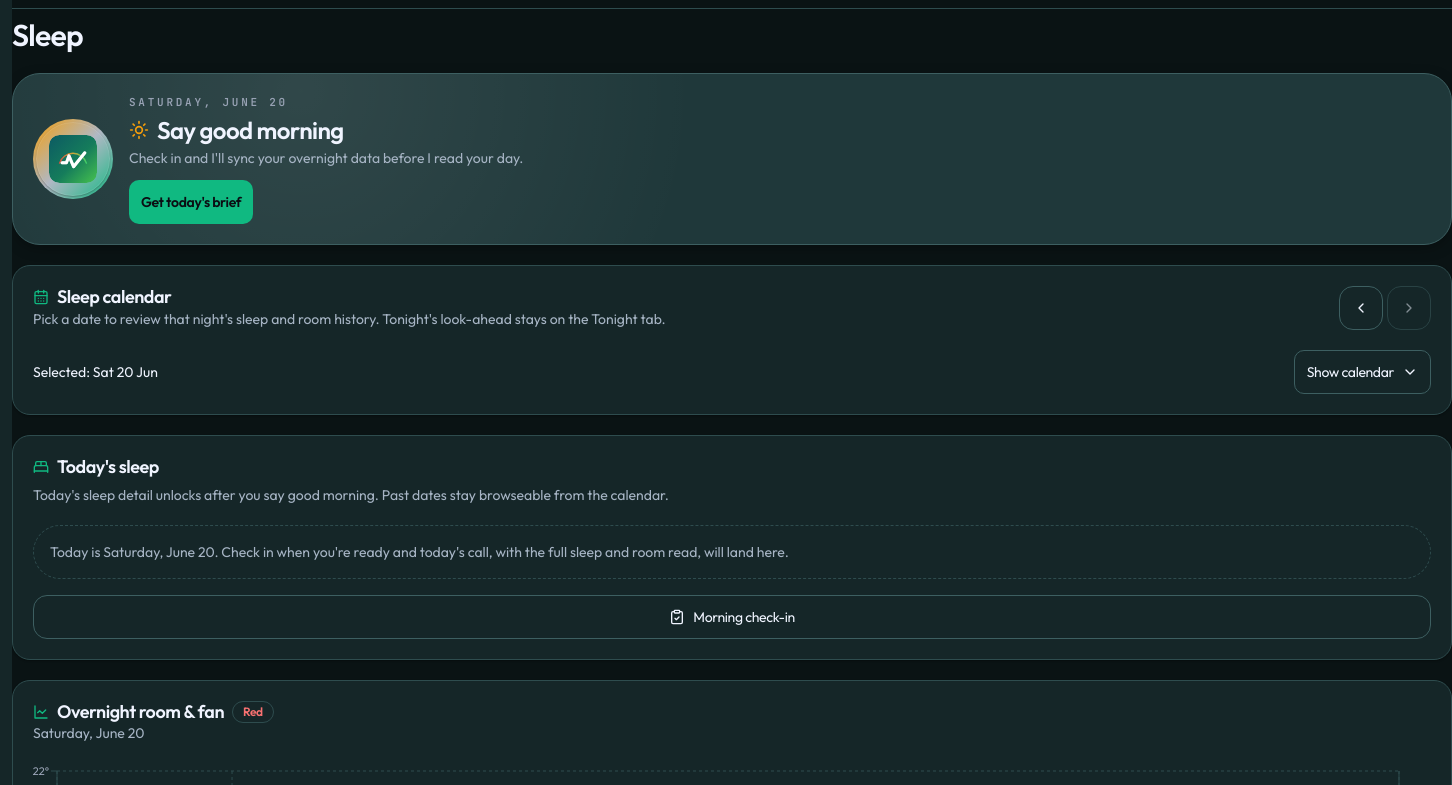
Test case: SleepPage › lets Mark browse past dates before today is unlocked while keeping today gated
Expected: the element "Say good morning" is shown, [12, 73, 1451, 245]
Expected: the heading "Today's sleep" is shown, [33, 455, 159, 478]
Click the button "Show calendar" at (1362, 372), box [1294, 350, 1431, 394]
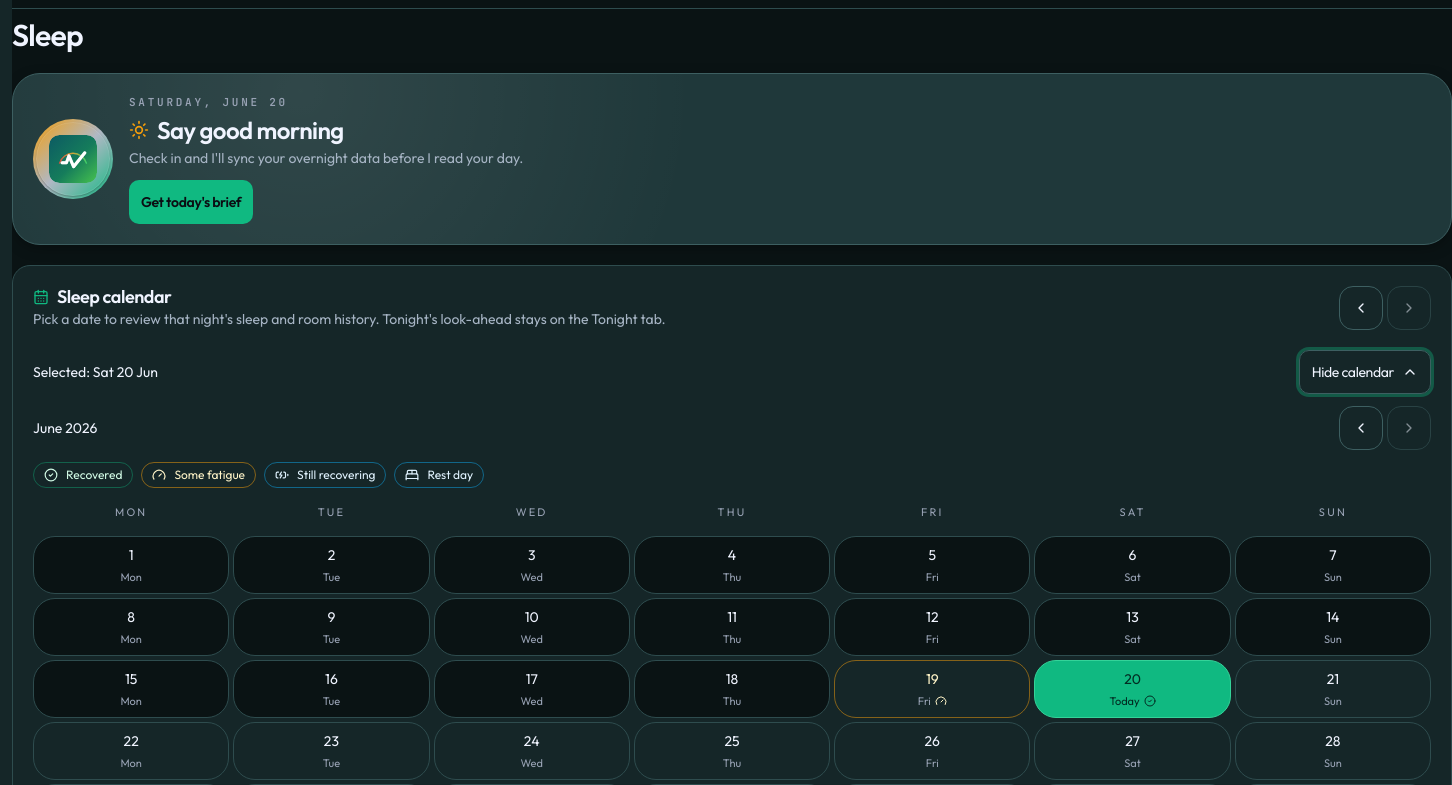
Now the text "June 2026" is shown, box [33, 418, 98, 438]
Click the button with aria-label "Friday 19 June 2026 - Some fatigue" at (932, 689), box [834, 660, 1030, 718]
(page scrolled)
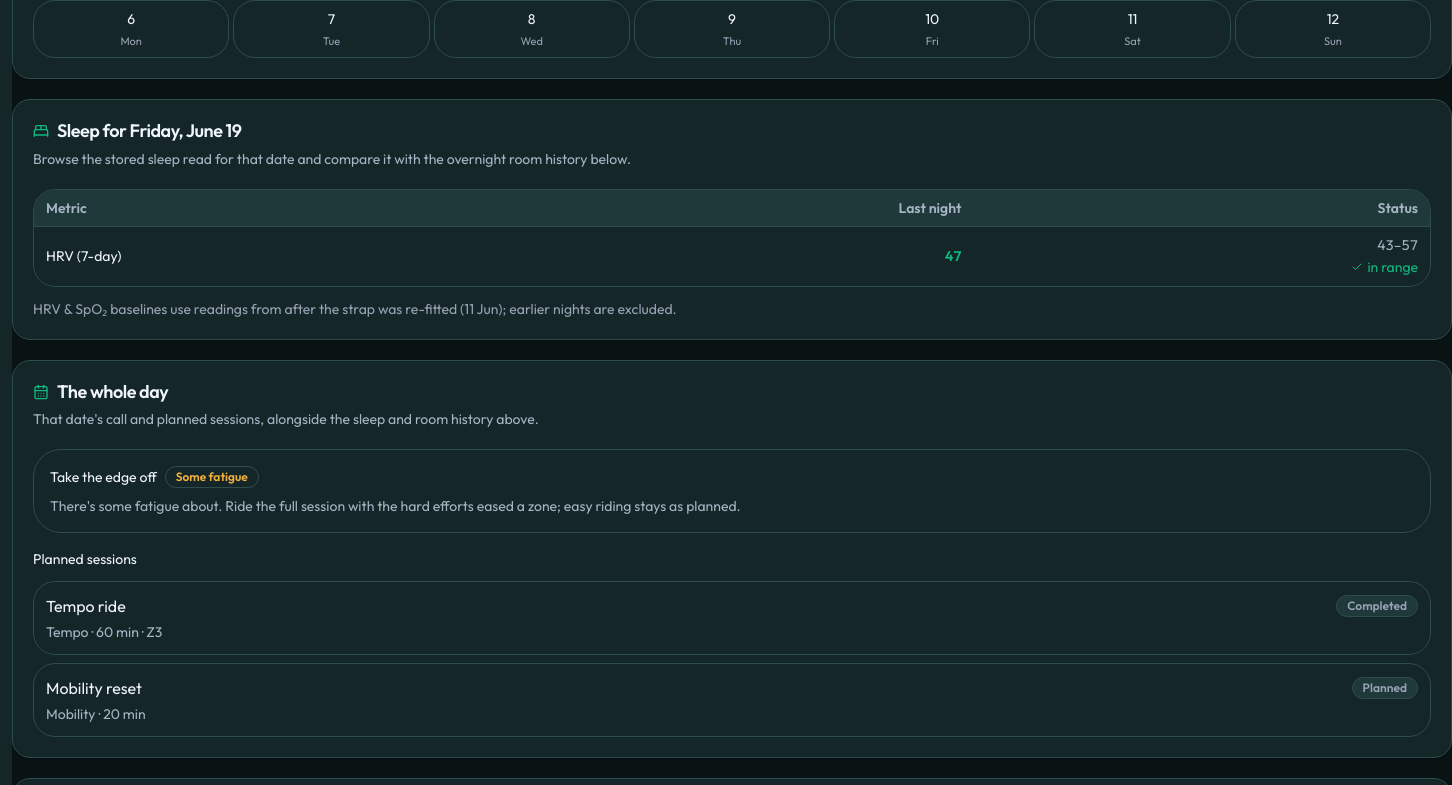
Now the heading "Sleep for Friday, June 19" is shown, box [33, 119, 242, 142]
Now the heading "The whole day" is shown, box [33, 380, 168, 402]
